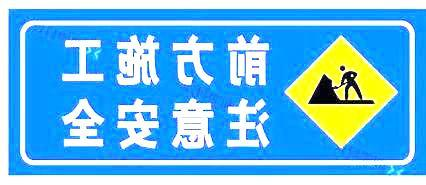sign: (14, 21, 416, 168)
